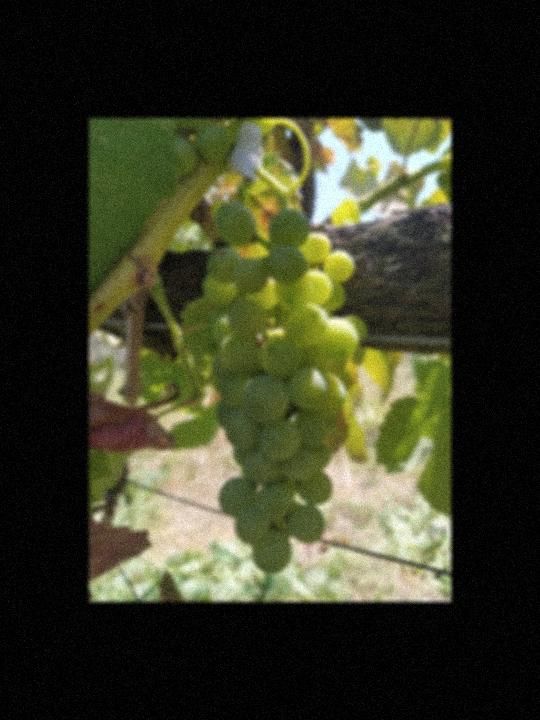grape: (202, 200, 368, 575)
